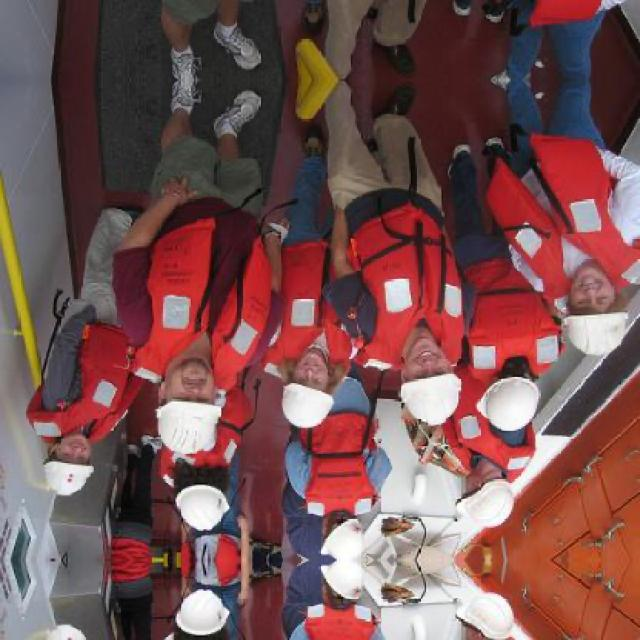con casco: (249, 341, 355, 444), (137, 365, 235, 451), (564, 247, 632, 370), (372, 326, 449, 428), (466, 356, 546, 451), (451, 462, 544, 543), (166, 478, 259, 547), (26, 429, 114, 499), (306, 500, 388, 560)
